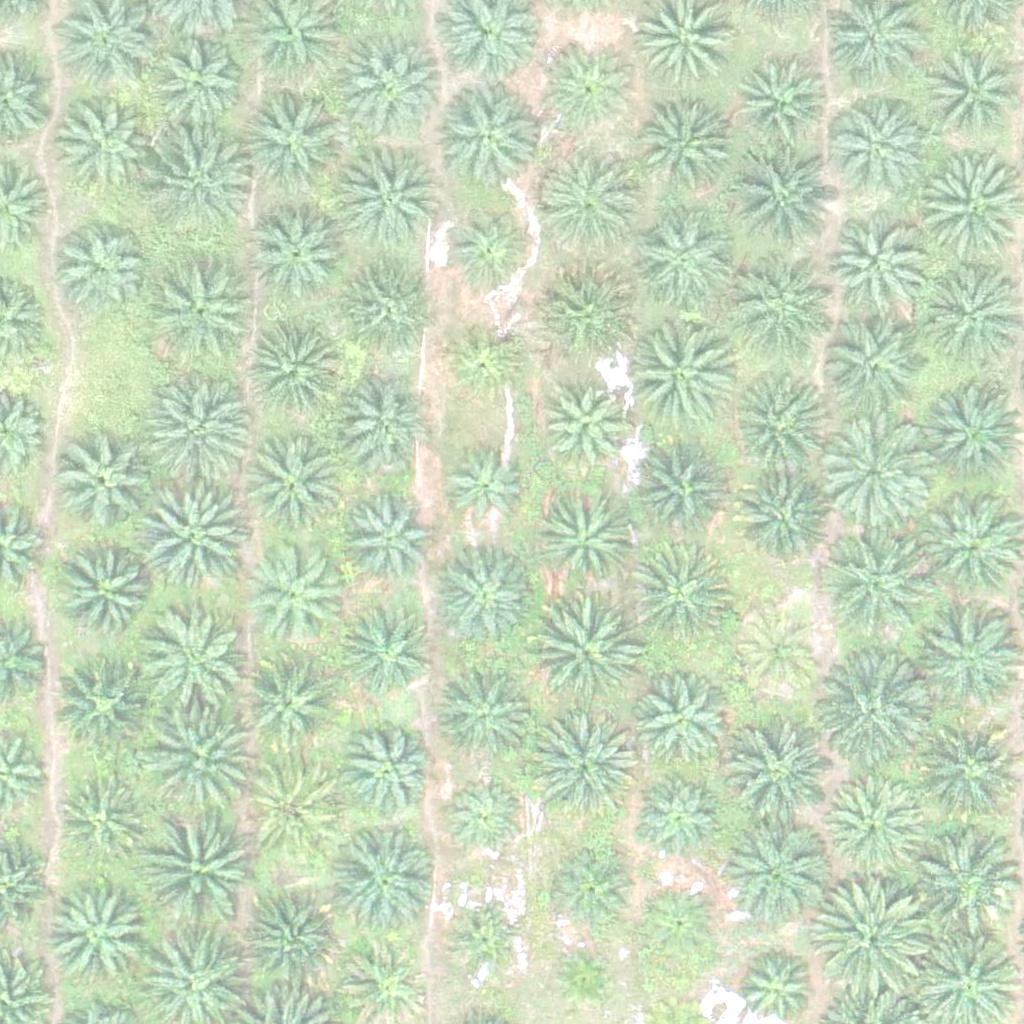Kelapa_Sawit: (142, 126, 255, 240), (146, 262, 259, 376), (816, 530, 929, 644), (142, 702, 255, 816), (139, 374, 252, 487), (617, 316, 730, 429), (909, 823, 1022, 936), (816, 656, 929, 769), (526, 709, 639, 822), (527, 597, 640, 710), (136, 610, 249, 723), (142, 481, 255, 594), (814, 876, 926, 990), (144, 805, 256, 919), (239, 85, 351, 198), (337, 28, 449, 141), (333, 143, 445, 256), (537, 143, 649, 256), (726, 143, 838, 256), (817, 415, 929, 528), (625, 539, 737, 652), (327, 823, 439, 936), (723, 722, 835, 835), (718, 815, 830, 928), (54, 431, 154, 532), (49, 224, 149, 325), (52, 99, 152, 200), (145, 38, 245, 139), (250, 319, 350, 420), (250, 202, 350, 303), (334, 266, 434, 367), (339, 375, 439, 476), (437, 86, 537, 187), (549, 262, 649, 363), (631, 209, 731, 310), (622, 438, 722, 539), (725, 369, 825, 470), (735, 269, 835, 370), (829, 96, 929, 197), (826, 212, 926, 313), (825, 777, 925, 878), (630, 671, 730, 772), (534, 490, 634, 591), (432, 550, 532, 651), (434, 663, 534, 764), (336, 722, 436, 823), (242, 540, 342, 641), (239, 650, 339, 751), (246, 433, 346, 533), (637, 95, 737, 195), (819, 319, 919, 419), (44, 889, 144, 989), (240, 893, 340, 993), (916, 726, 1016, 826), (726, 466, 826, 566), (245, 759, 345, 859), (56, 541, 156, 641), (56, 655, 156, 755), (443, 314, 531, 402), (443, 201, 531, 289), (538, 382, 626, 470), (634, 878, 722, 966), (735, 609, 823, 697), (439, 776, 527, 864), (342, 608, 430, 696), (341, 499, 429, 587), (55, 774, 143, 862), (636, 774, 723, 863), (438, 446, 525, 534), (547, 45, 634, 133), (736, 54, 823, 142), (545, 848, 632, 936), (545, 940, 620, 1016), (451, 911, 526, 986)
